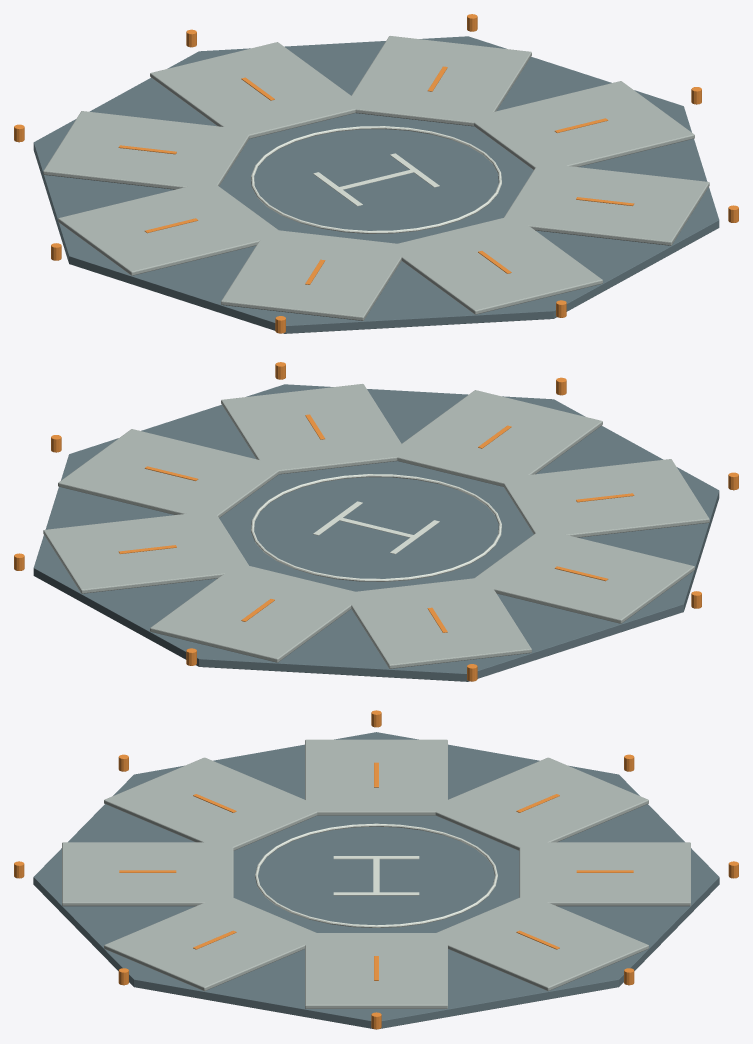
File: air_launchpad_d0.glb
The picture shows the model from 3 angles, top to bottom: view 1: azimuth 30°, elevation 25°; view 2: azimuth 150°, elevation 25°; view 3: azimuth 270°, elevation 25°; orthographic projection. The views are drawn at different scales.
Parts seen in each view (by area): view 1: Landing deck segment, Landing armor petal, Landing armor petal.005, Landing armor petal.002, Landing armor petal.006, Landing armor petal.007, Landing armor petal.004, Landing armor petal.003, Landing armor petal.001, Touchdown target; view 2: Landing deck segment, Landing armor petal.002, Landing armor petal.004, Landing armor petal, Landing armor petal.003, Landing armor petal.006, Landing armor petal.005, Landing armor petal.001, Landing armor petal.007, Touchdown target; view 3: Landing deck segment, Landing armor petal.005, Landing armor petal.003, Landing armor petal.007, Landing armor petal.001, Landing armor petal.002, Landing armor petal.004, Landing armor petal.006, Landing armor petal, Touchdown target.
Boxes of the visible parts, box(x1,y1,x2,y2) form: Landing deck segment: box(33, 36, 719, 333); Landing armor petal: box(469, 81, 694, 171); Landing armor petal.005: box(221, 229, 408, 320); Landing armor petal.002: box(150, 42, 364, 138); Landing armor petal.006: box(398, 216, 602, 314); Landing armor petal.007: box(502, 165, 709, 245); Landing armor petal.004: box(58, 181, 280, 275); Landing armor petal.003: box(43, 111, 249, 189); Landing armor petal.001: box(344, 36, 531, 126); Touchdown target: box(251, 126, 501, 233); Landing deck segment: box(33, 384, 719, 681); Landing armor petal.002: box(150, 563, 364, 662); Landing armor petal.004: box(469, 529, 694, 623); Landing armor petal: box(58, 429, 283, 519); Landing armor petal.003: box(345, 577, 531, 668); Landing armor petal.006: box(389, 390, 602, 486); Landing armor petal.005: box(501, 459, 709, 537); Landing armor petal.001: box(43, 511, 250, 593); Landing armor petal.007: box(221, 384, 407, 474); Touchdown target: box(251, 474, 501, 581); Landing deck segment: box(33, 732, 719, 1028); Landing armor petal.005: box(104, 757, 324, 850); Landing armor petal.003: box(429, 757, 648, 850); Landing armor petal.007: box(104, 897, 324, 991); Landing armor petal.001: box(436, 897, 648, 991); Landing armor petal.002: box(519, 842, 690, 906); Landing armor petal.004: box(305, 739, 447, 815); Landing armor petal.006: box(62, 842, 233, 906); Landing armor petal: box(305, 933, 447, 1008); Touchdown target: box(255, 823, 497, 927).
Bounding box in the file's own units: 25.36 × 0.82 × 25.36.
